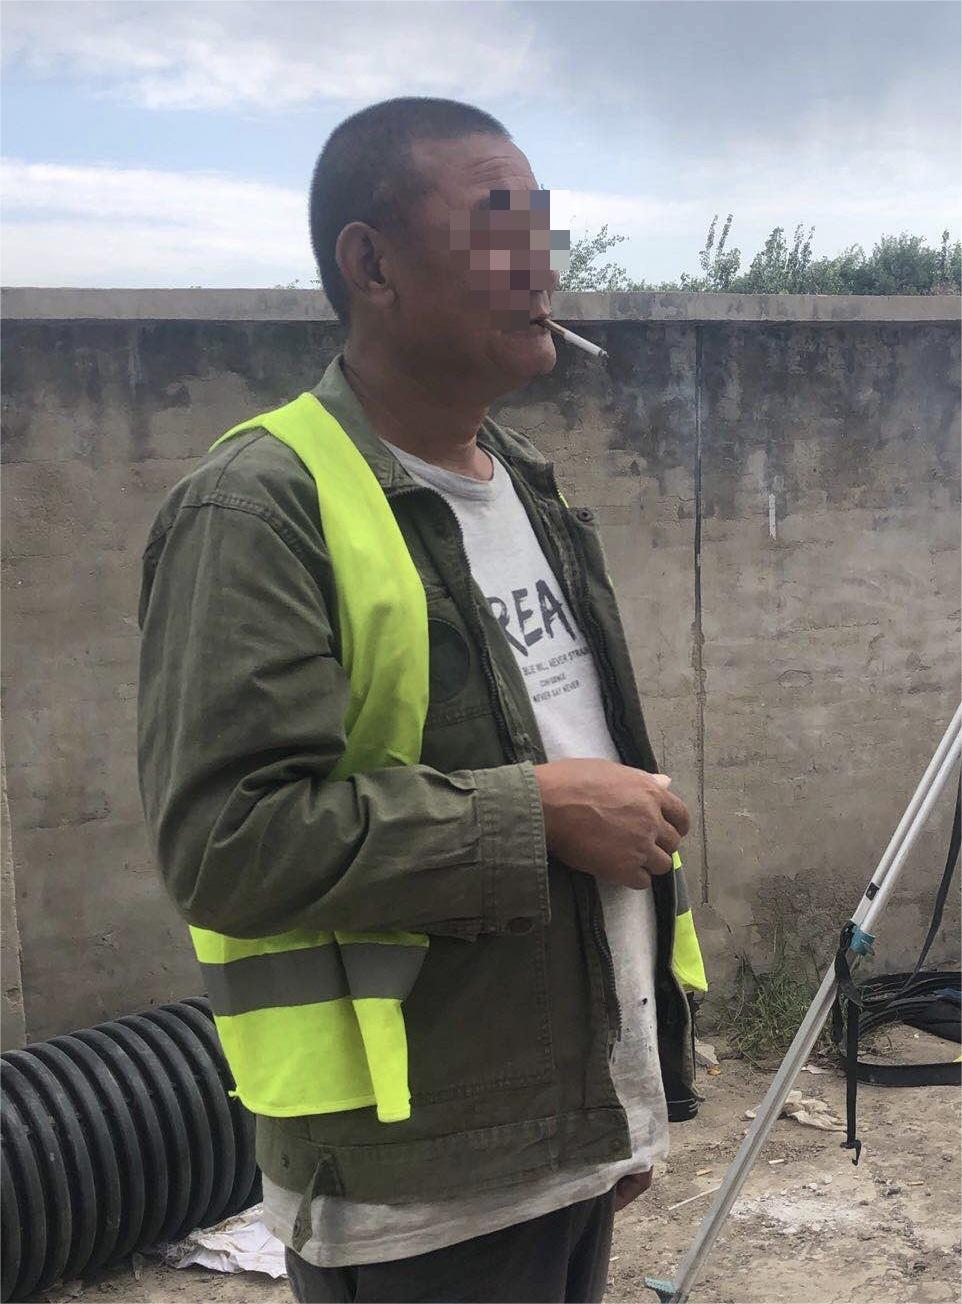smoke: (541, 319, 614, 362)
